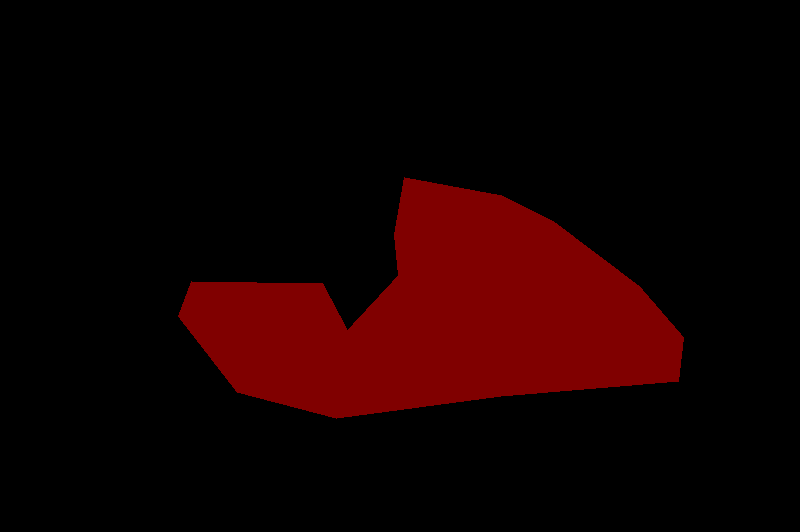fire: (178, 177, 683, 418)
